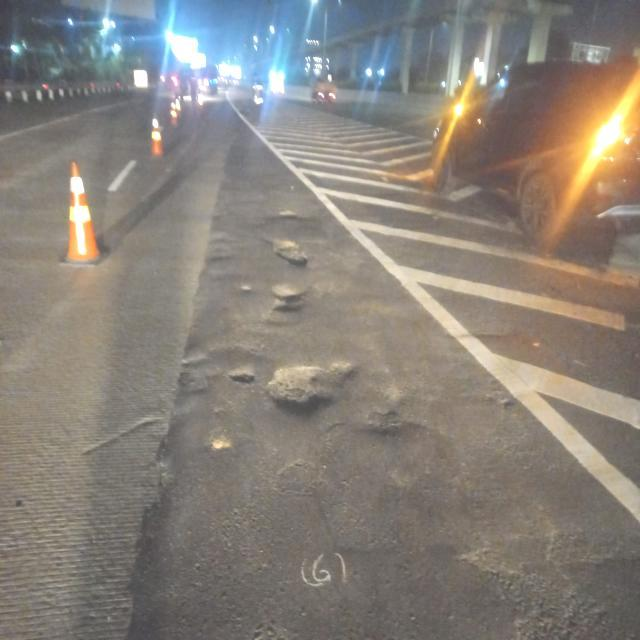Buraco: (257, 358, 362, 422), (260, 234, 312, 270), (267, 283, 314, 317), (221, 366, 262, 390), (274, 207, 302, 222)
